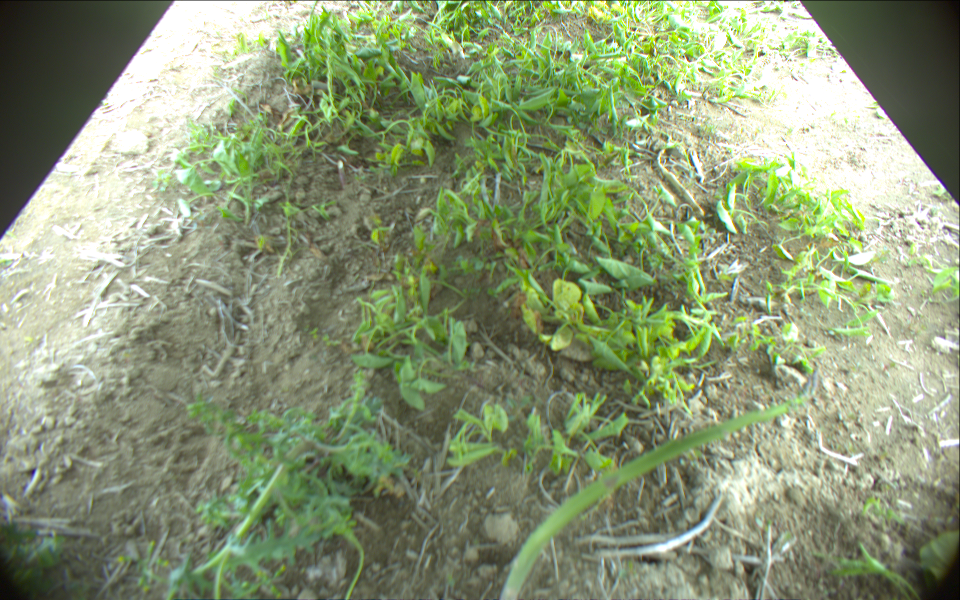aspa: (504, 367, 821, 600)
